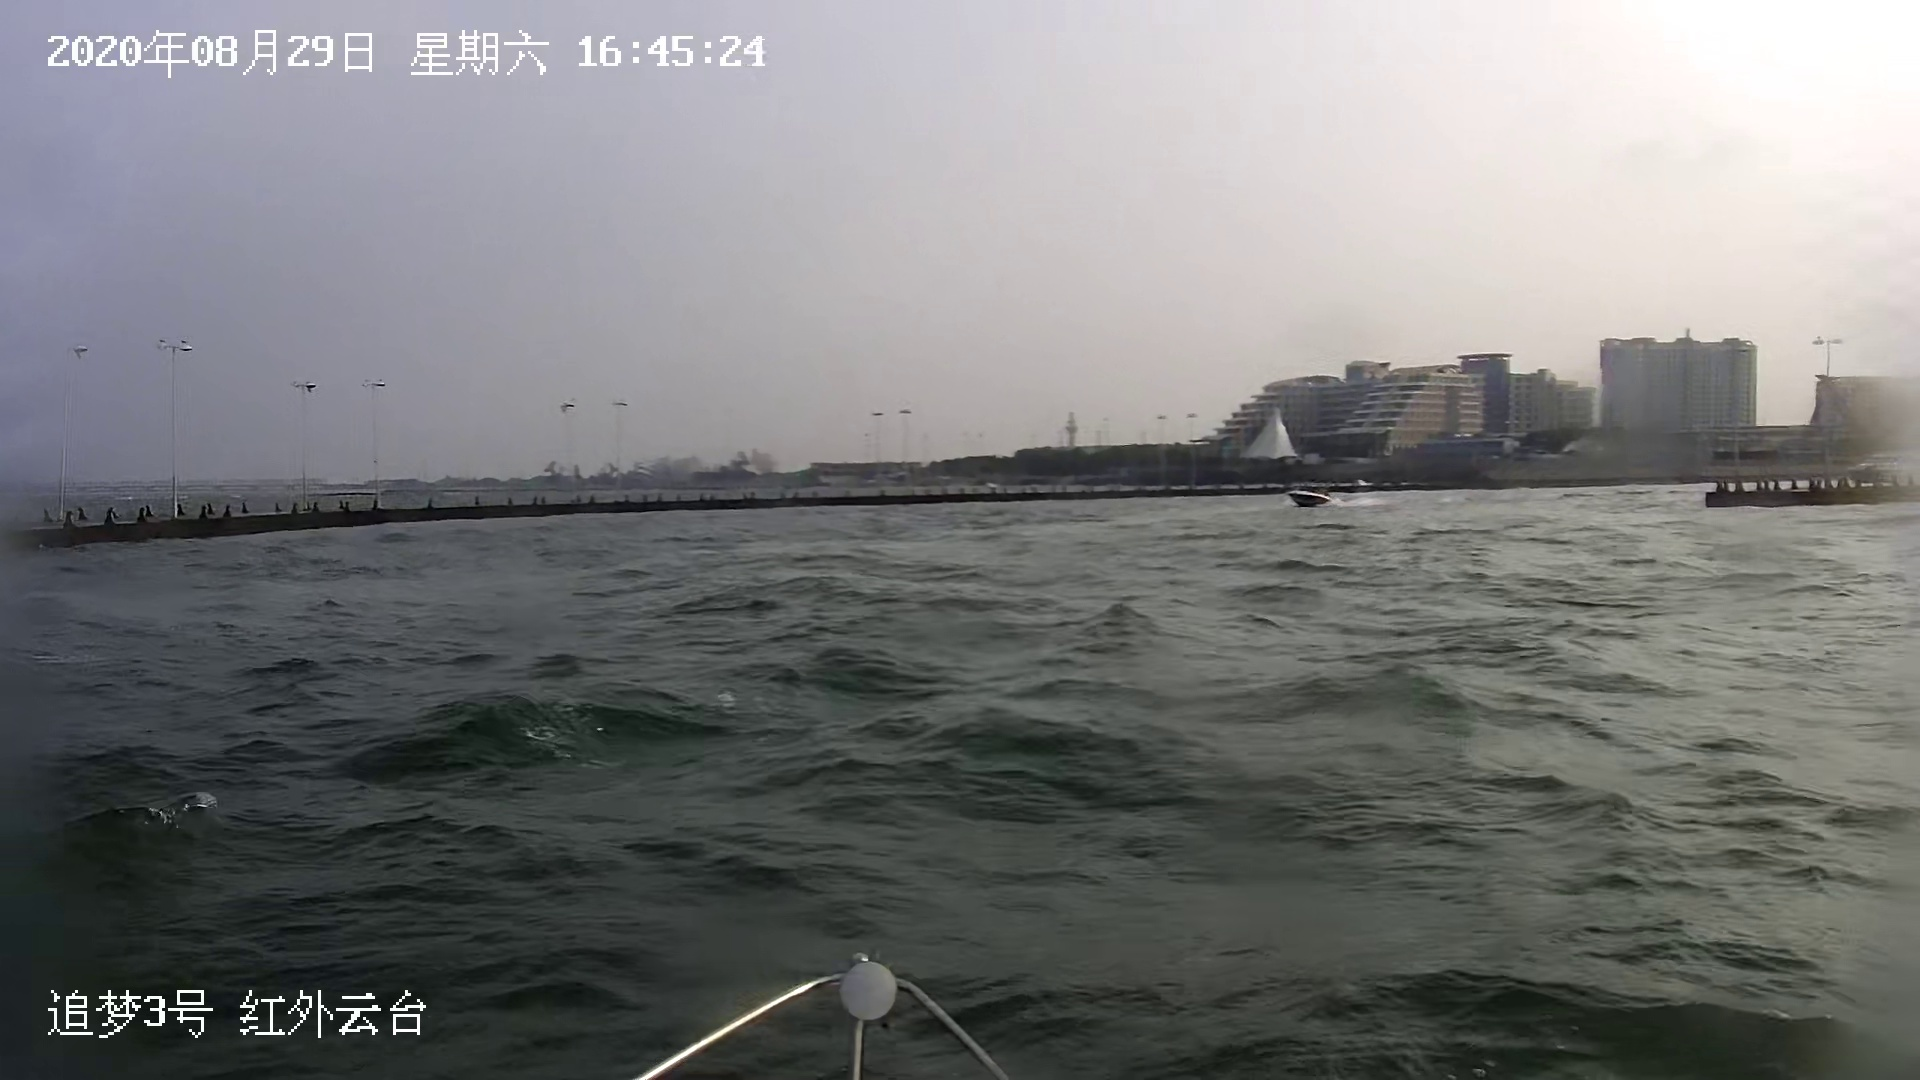barrier: (1280, 485, 1342, 505)
coast: (7, 332, 1917, 553)
